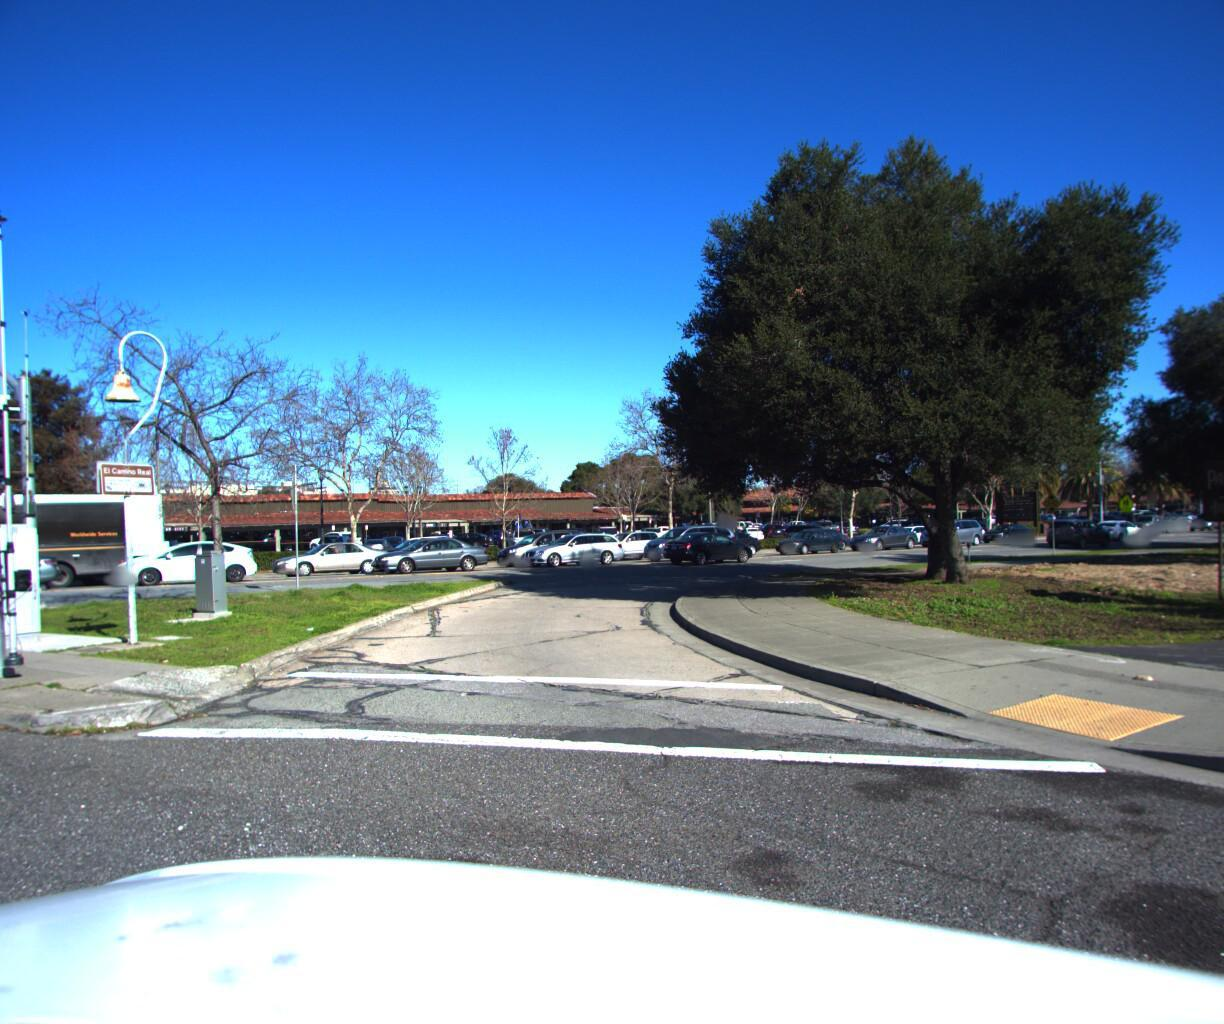car: (104, 531, 266, 582), (363, 529, 493, 569), (263, 533, 386, 573), (516, 523, 628, 562), (487, 521, 593, 562), (634, 515, 739, 556), (371, 527, 473, 568), (655, 520, 760, 559), (577, 521, 662, 556), (767, 520, 850, 550), (1040, 513, 1111, 545), (912, 513, 989, 541), (841, 519, 920, 545), (778, 515, 844, 539), (1084, 515, 1144, 538), (1125, 507, 1167, 527)
